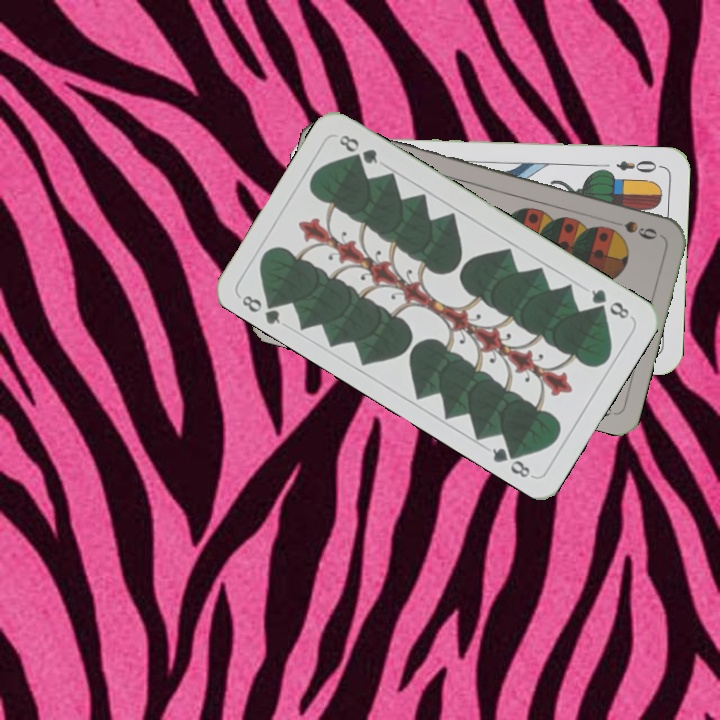EO: (612, 156, 664, 176)
G8: (235, 291, 284, 328), (587, 285, 634, 322)
S9: (620, 216, 660, 242)
